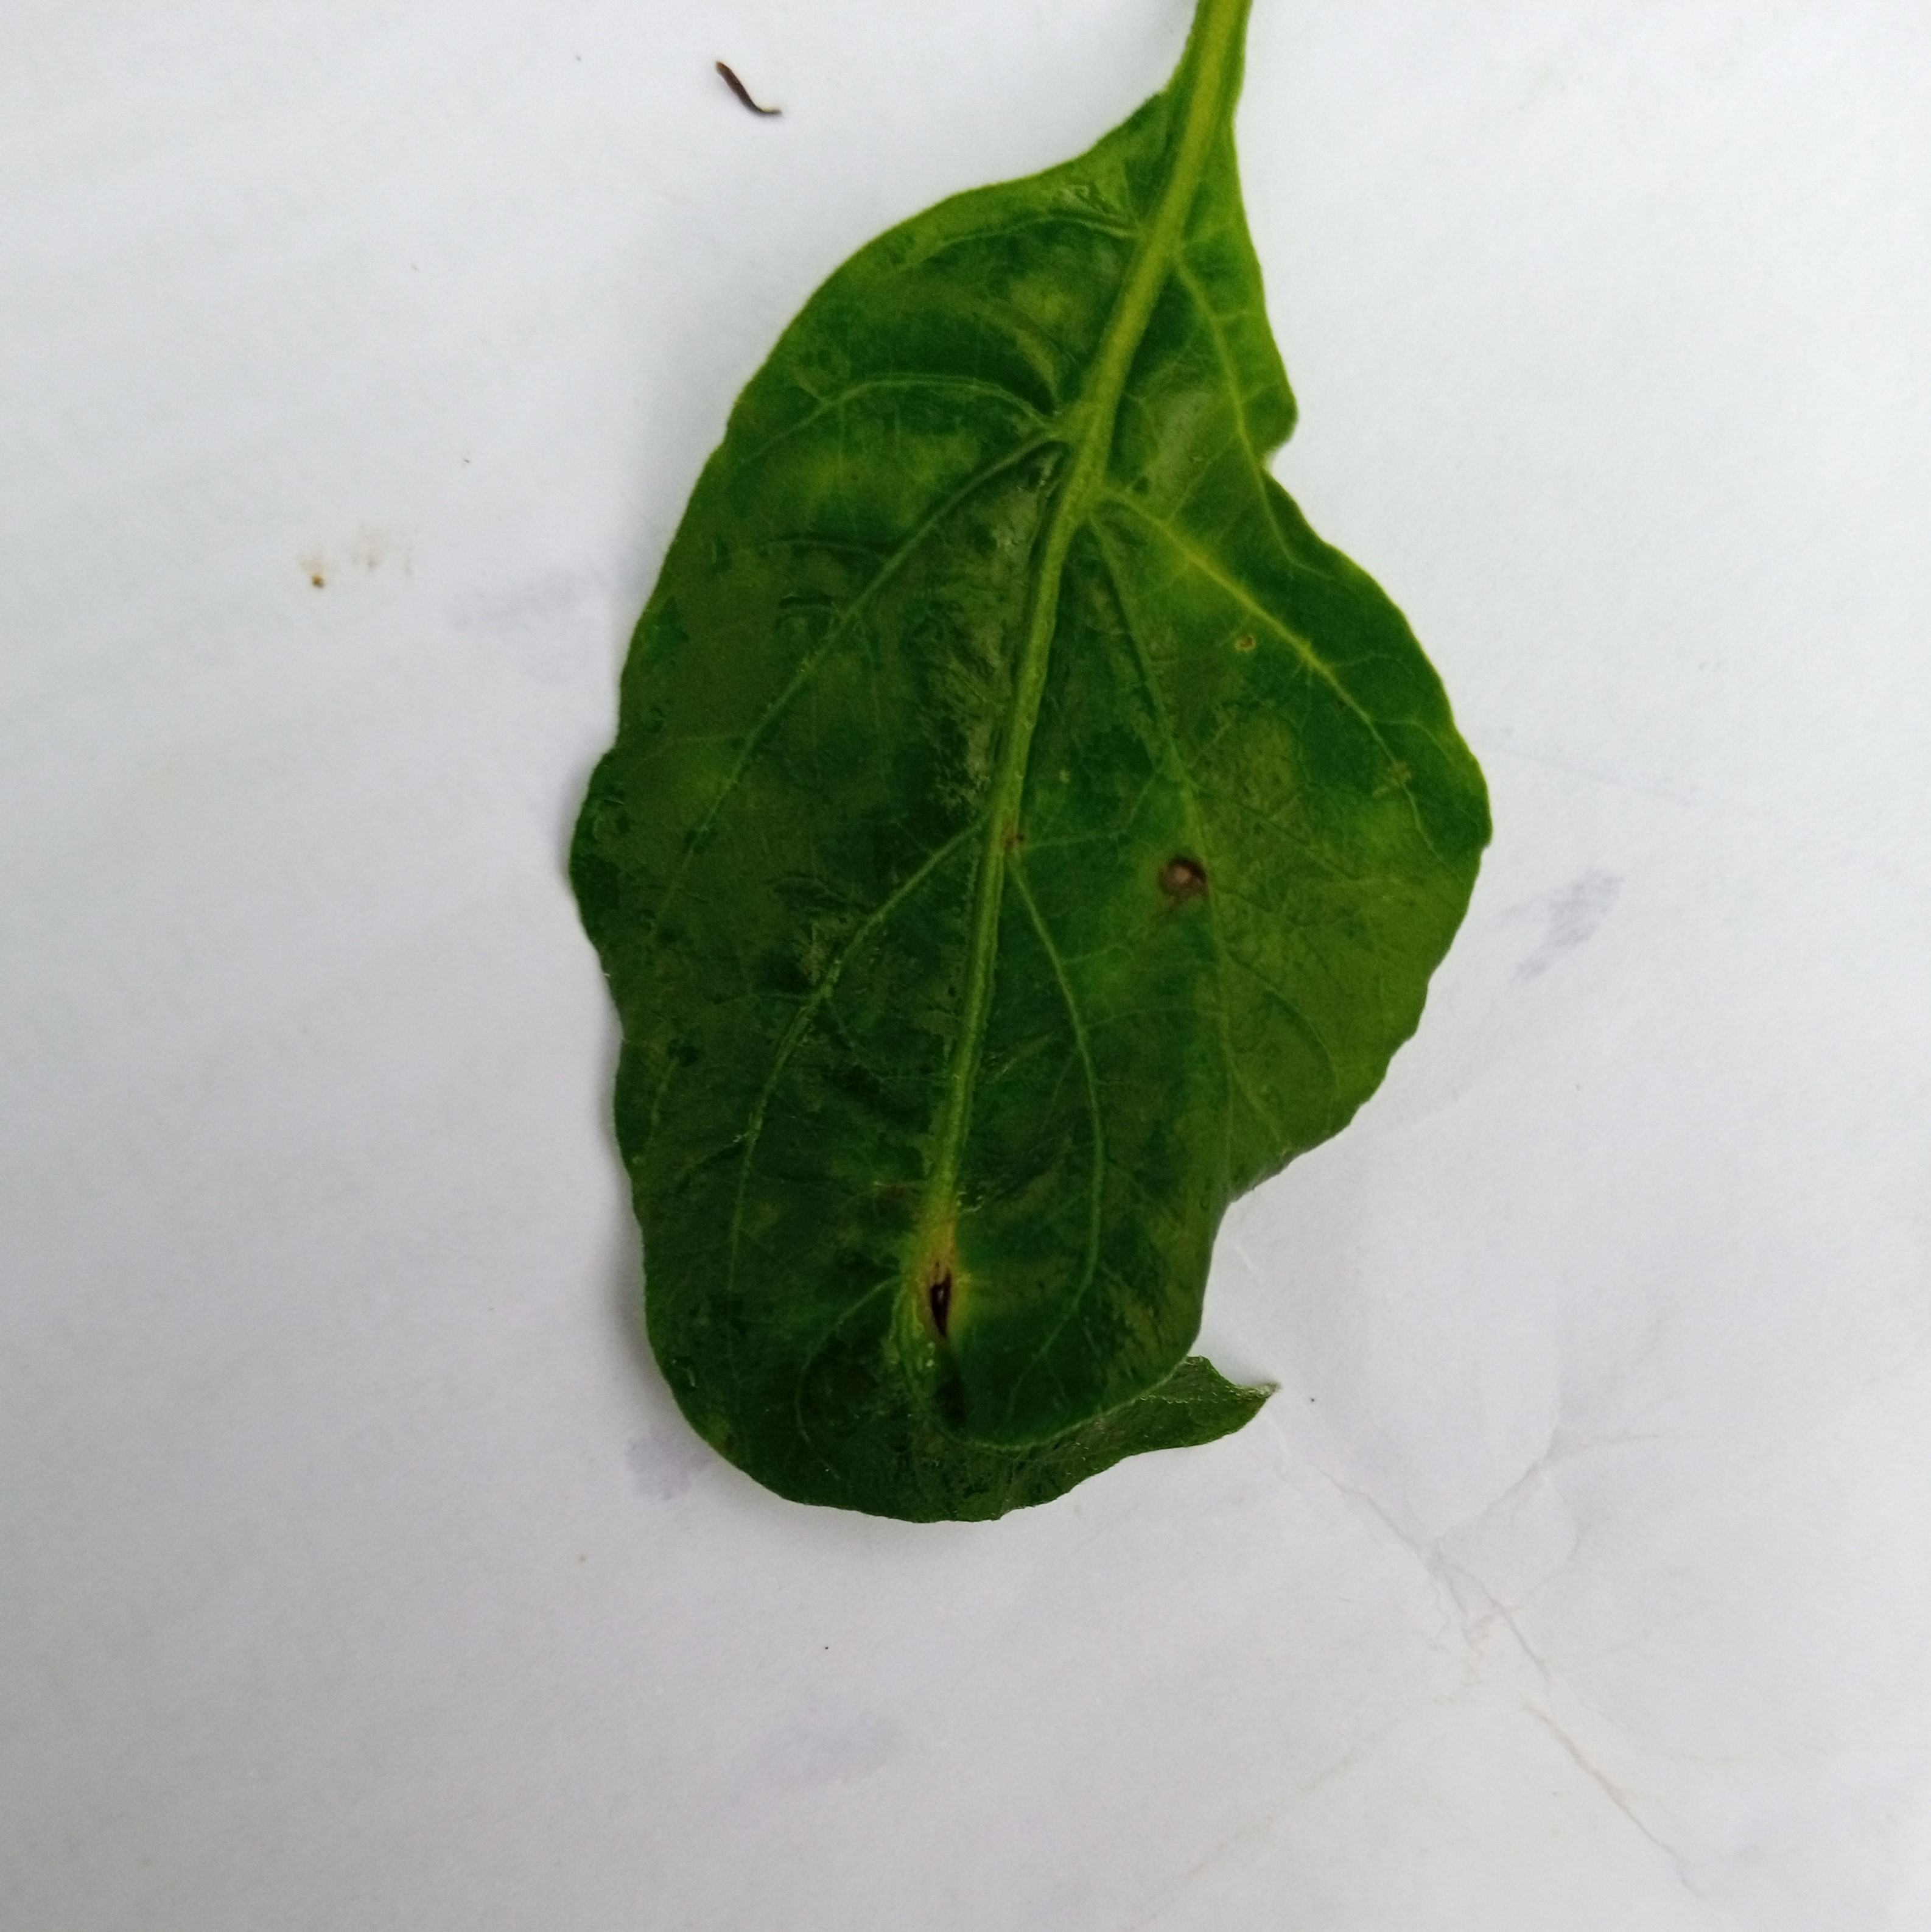Leaf: (393, 64, 1623, 1723)
